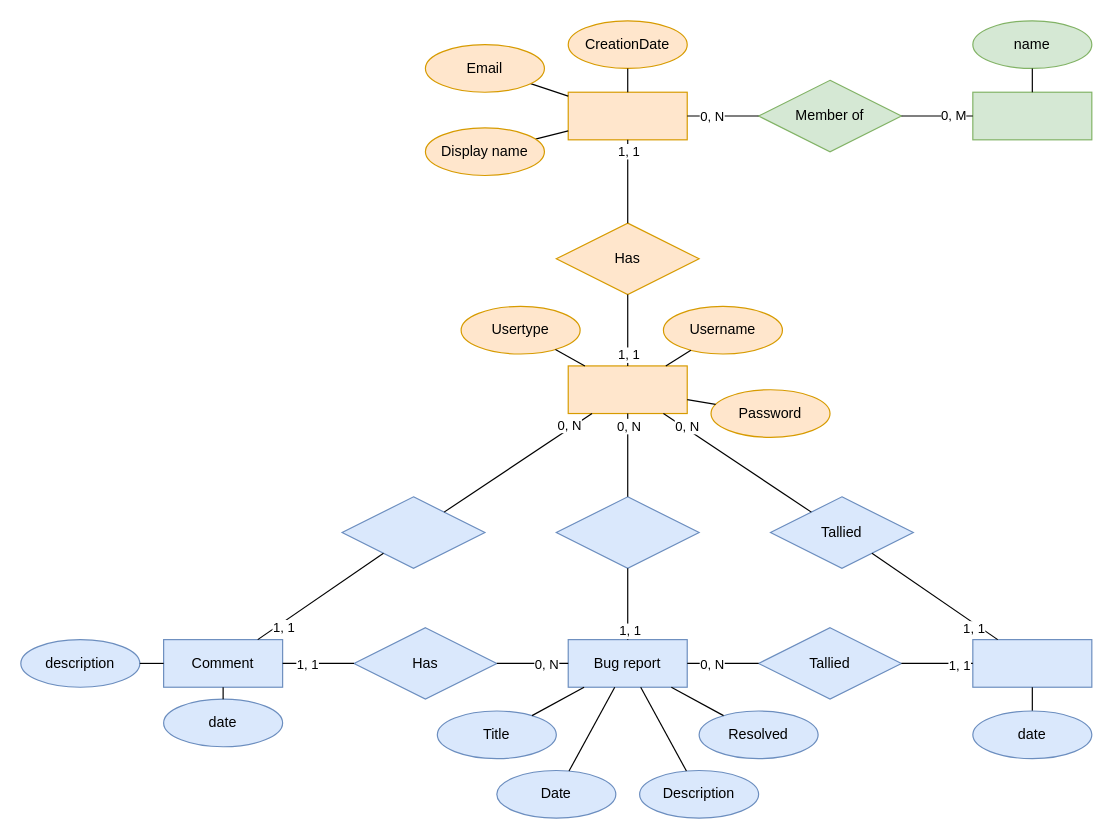
This 1113x839 diagram has some shape labels left out. Each missing label, with the centre of its shape:
"Commented" goes at pixel 413 532.
"group" goes at pixel 1032 115.
"Profile" goes at pixel 627 115.
"Reported" goes at pixel 627 532.
"Tally" goes at pixel 1032 662.
"User" goes at pixel 627 389.
